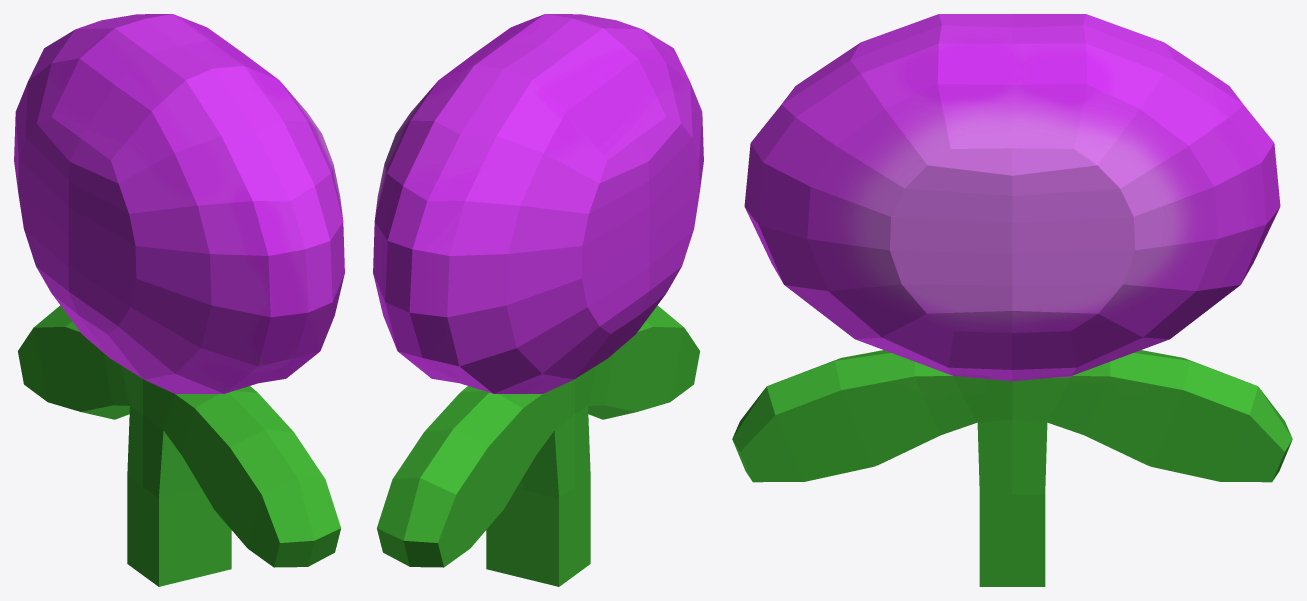
Rendered from FlowerPurple.fbx.
The picture shows the model from 3 angles, left to right: view 1: azimuth 30°, elevation 25°; view 2: azimuth 150°, elevation 25°; view 3: azimuth 270°, elevation 25°; orthographic projection. The views are drawn at different scales.
Visible parts, largest first — view 1: Flower; view 2: Flower; view 3: Flower.
Part boxes in pixels (x1,y1,x2,y2): Flower: [14, 14, 344, 586]; Flower: [373, 14, 703, 586]; Flower: [732, 14, 1292, 586].
Bounding box in the file's own units: 192 × 433 × 405.
1 material, 1 textured.
